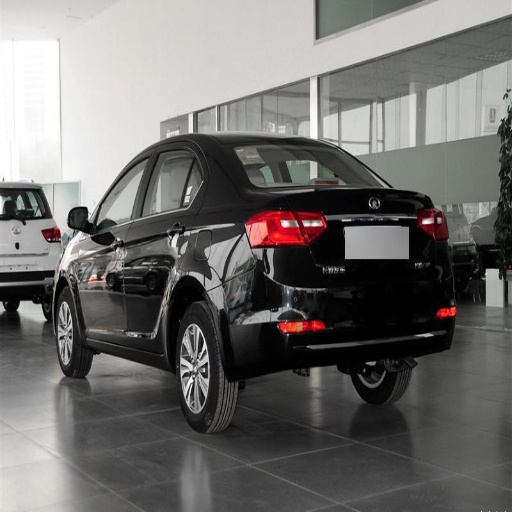back_bumper: (221, 262, 451, 370)
back_glass: (237, 142, 375, 184)
back_left_door: (125, 139, 204, 338)
tailgate: (299, 185, 417, 277)
trunk: (304, 232, 432, 319)
